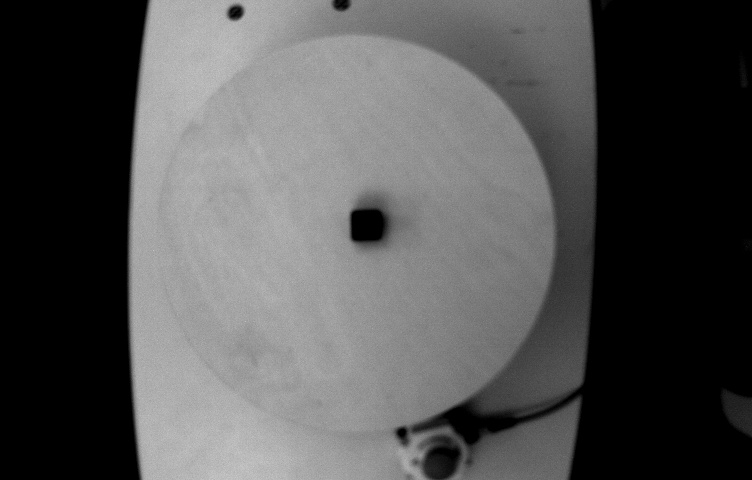cube: (344, 203, 393, 246)
